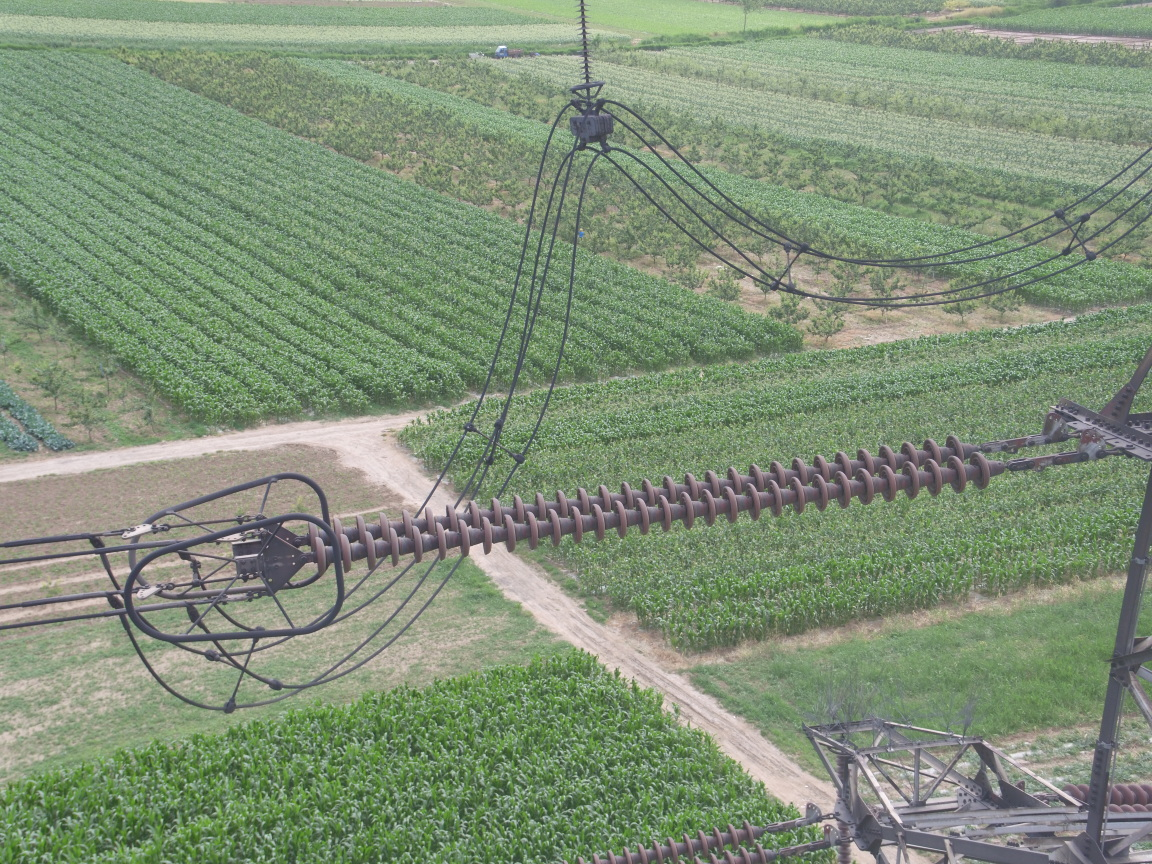insulator: (287, 430, 1034, 579), (579, 817, 794, 864)
